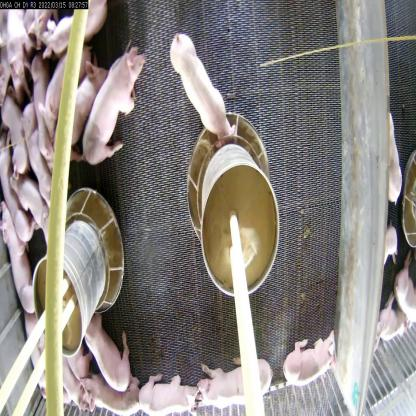Pig: (81, 46, 159, 181), (168, 23, 244, 145), (21, 48, 100, 136), (82, 321, 148, 395), (283, 323, 343, 402), (201, 356, 272, 416), (52, 65, 104, 141), (133, 369, 203, 415), (0, 215, 34, 306)
